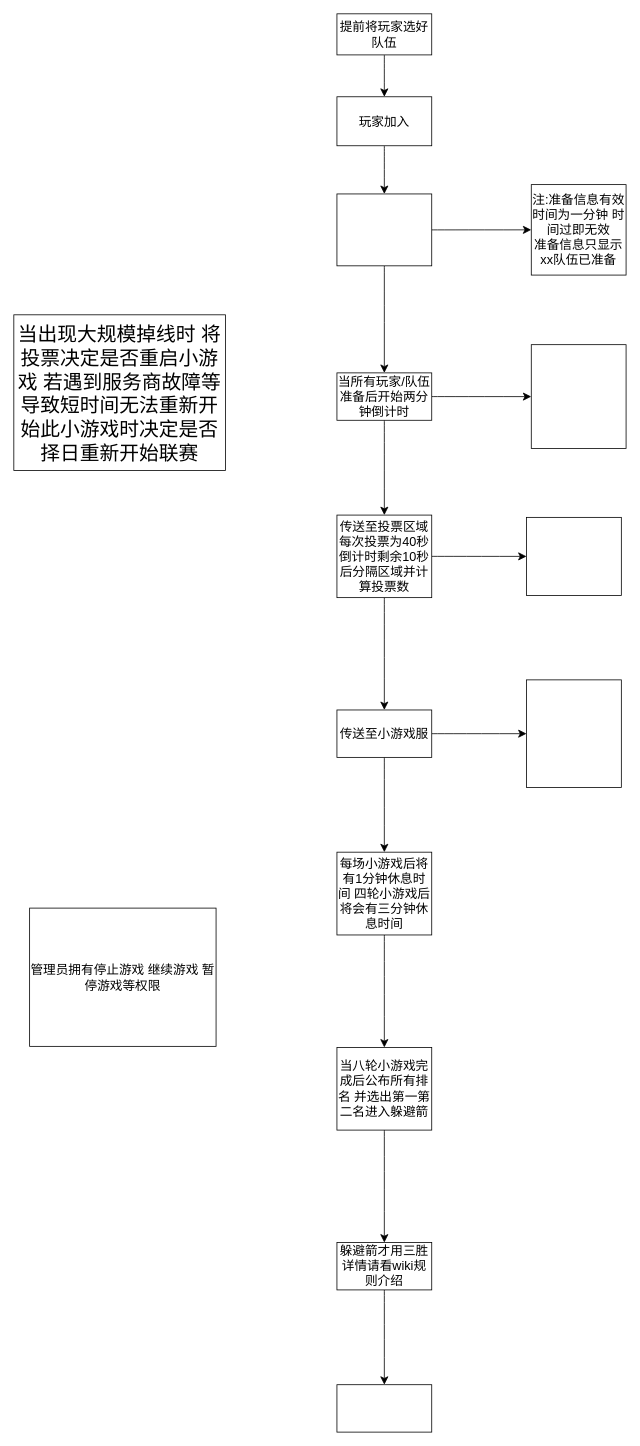
Image size: 640x1446. Some labels were removed from this diagram. Here are the shapes that lost their labels. From the top down, the centre of each, then its label:
the point at 384,229: 当所有玩家进入服务器后 向所有玩家发送确认准备信息
the point at 578,396: 当倒计时内有玩家退出后 倒计时自动停止 等到玩家重新连接或管理员强制开启游戏后继续倒计时
the point at 573,556: 第一轮没有特殊道具 第二轮开始排名最后的两个队伍奖获得道具
the point at 573,733: 中途有玩家退出重连后取消此小游戏资格并修改为旁观模式 直至游戏结束传送回大厅
the point at 384,1408: 当一方玩家获得胜利 游戏结束
